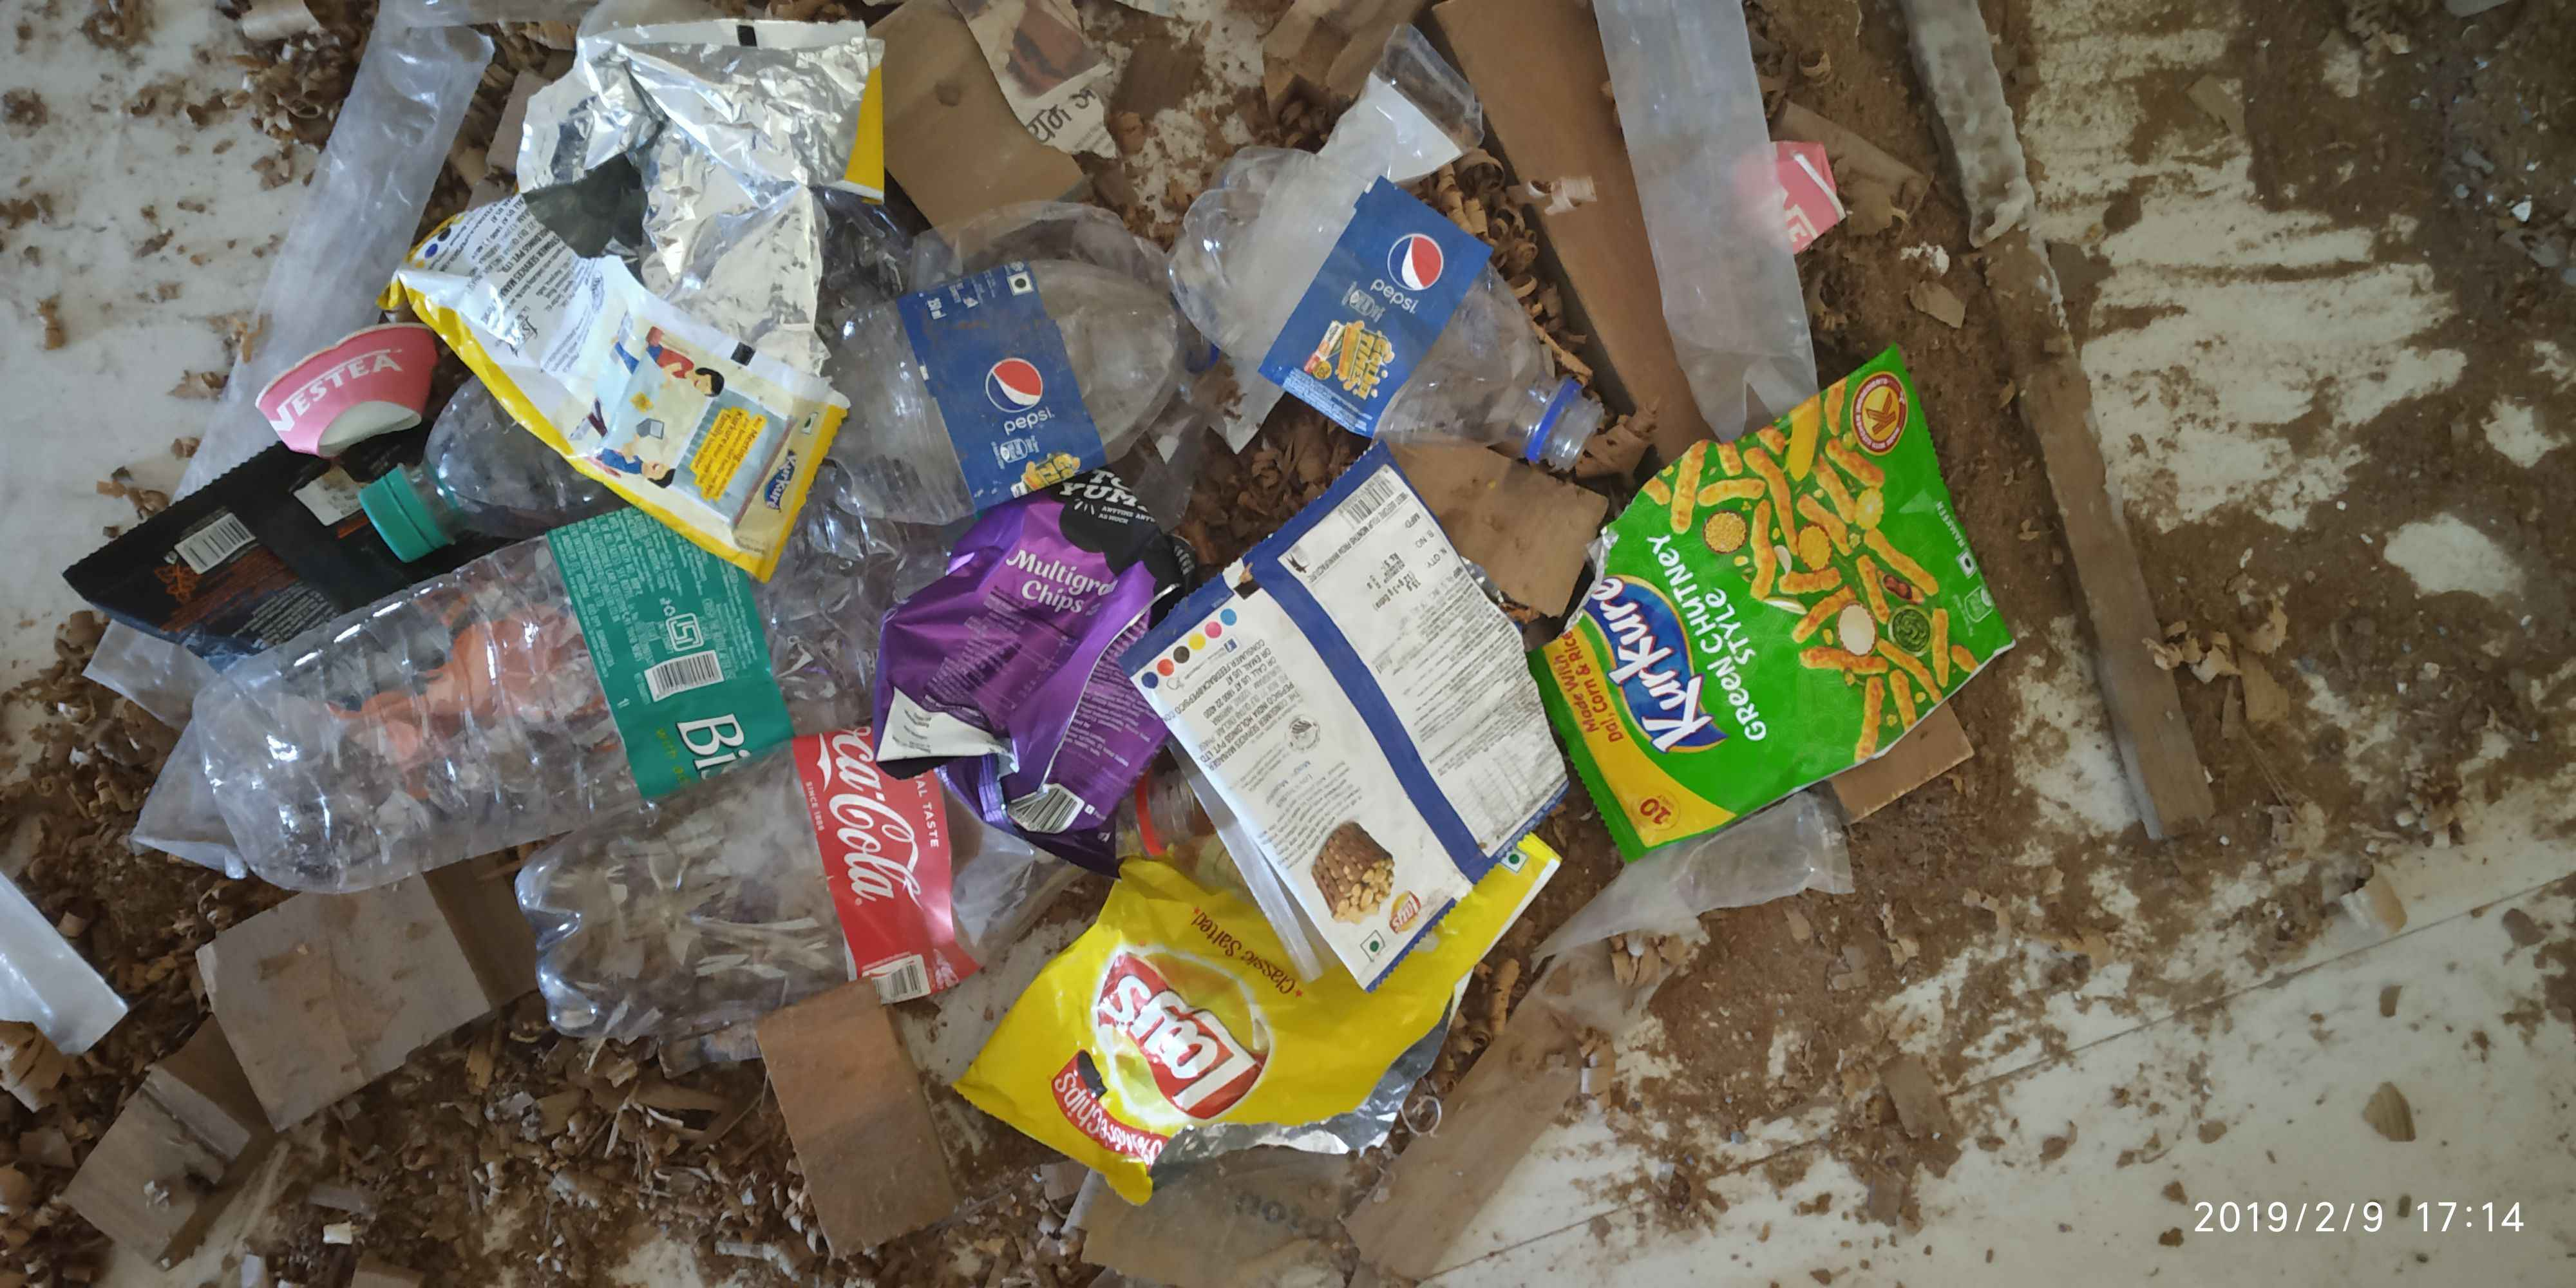Bisleri: (641, 624, 779, 770)
Coca-Cola: (823, 713, 958, 981)
Lays: (1063, 931, 1332, 1134), (1387, 885, 1441, 946)
kurkure: (1580, 560, 1750, 780), (757, 448, 802, 516)
pepsi: (1364, 197, 1479, 355), (963, 325, 1083, 452)
tooyumm: (1030, 448, 1168, 522)
